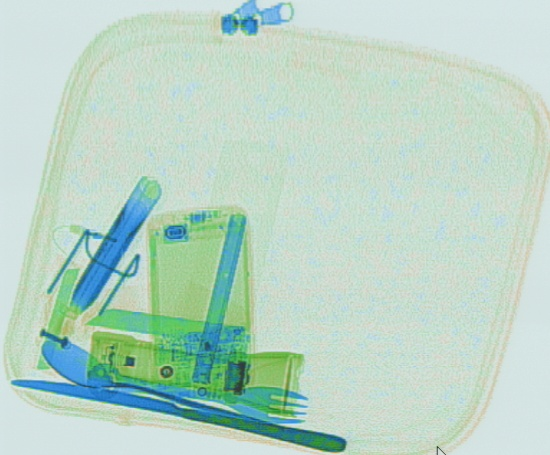knife: (9, 373, 349, 453), (187, 209, 250, 386), (82, 305, 259, 352), (29, 263, 81, 371)
